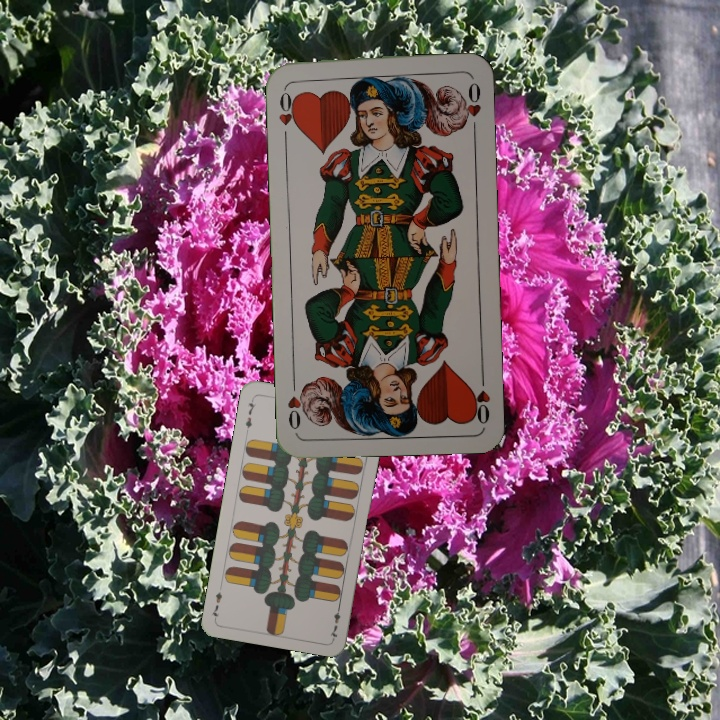E7: (241, 395, 259, 435), (326, 601, 343, 641)
HO: (274, 83, 301, 143), (468, 367, 493, 427)
